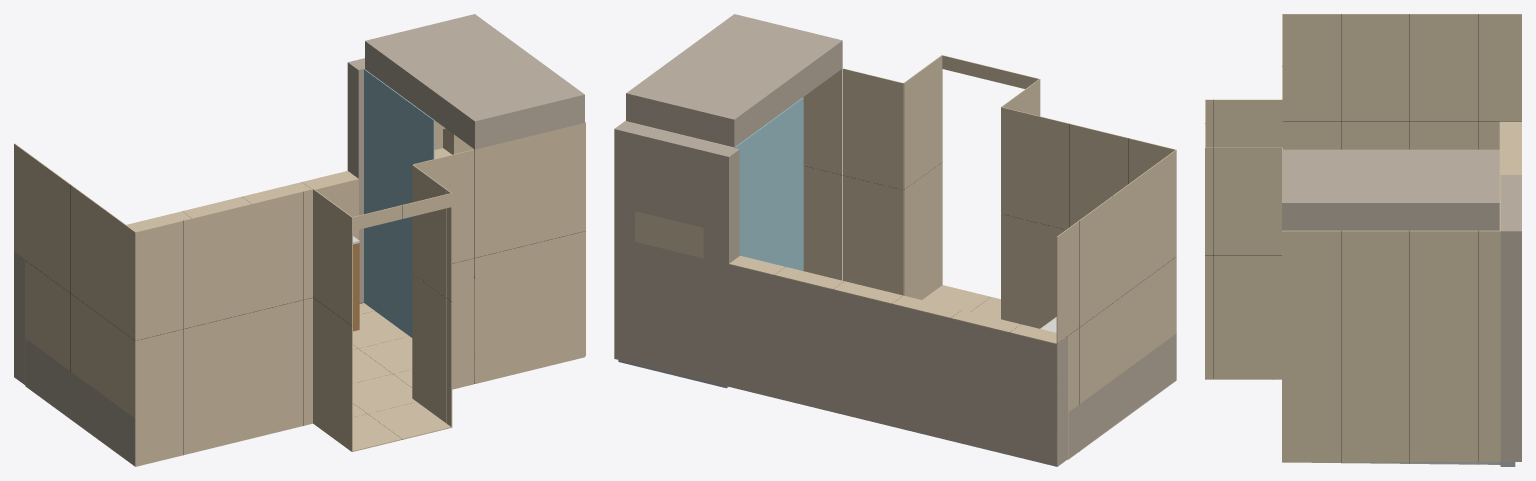
Rendered from bathroom_107.glb.
The picture shows the model from 3 angles, left to right: view 1: azimuth 30°, elevation 25°; view 2: azimuth 150°, elevation 25°; view 3: azimuth 270°, elevation 25°; orthographic projection.
Parts seen in each view (by area): view 1: wall_tile (×35), prewall (×4), screen, floor_tile (×6), vanity; view 2: prewall (×4), wall_tile (×31), screen, floor_tile; view 3: wall_tile (×24), prewall (×2).
Boxes of the visible parts, box(x1,y1,x2,y2) form: wall_tile (×35): box(14, 123, 584, 465); prewall (×4): box(14, 14, 584, 465); screen: box(364, 69, 434, 337); floor_tile (×6): box(317, 311, 452, 451); vanity: box(353, 243, 359, 331); prewall (×4): box(614, 14, 1176, 466); wall_tile (×31): box(635, 55, 1176, 466); screen: box(734, 97, 803, 270); floor_tile: box(922, 285, 990, 311); wall_tile (×24): box(1205, 14, 1521, 461); prewall (×2): box(1282, 149, 1521, 461).
Bounding box in the file's own units: 4.5 × 2.55 × 2.77.
